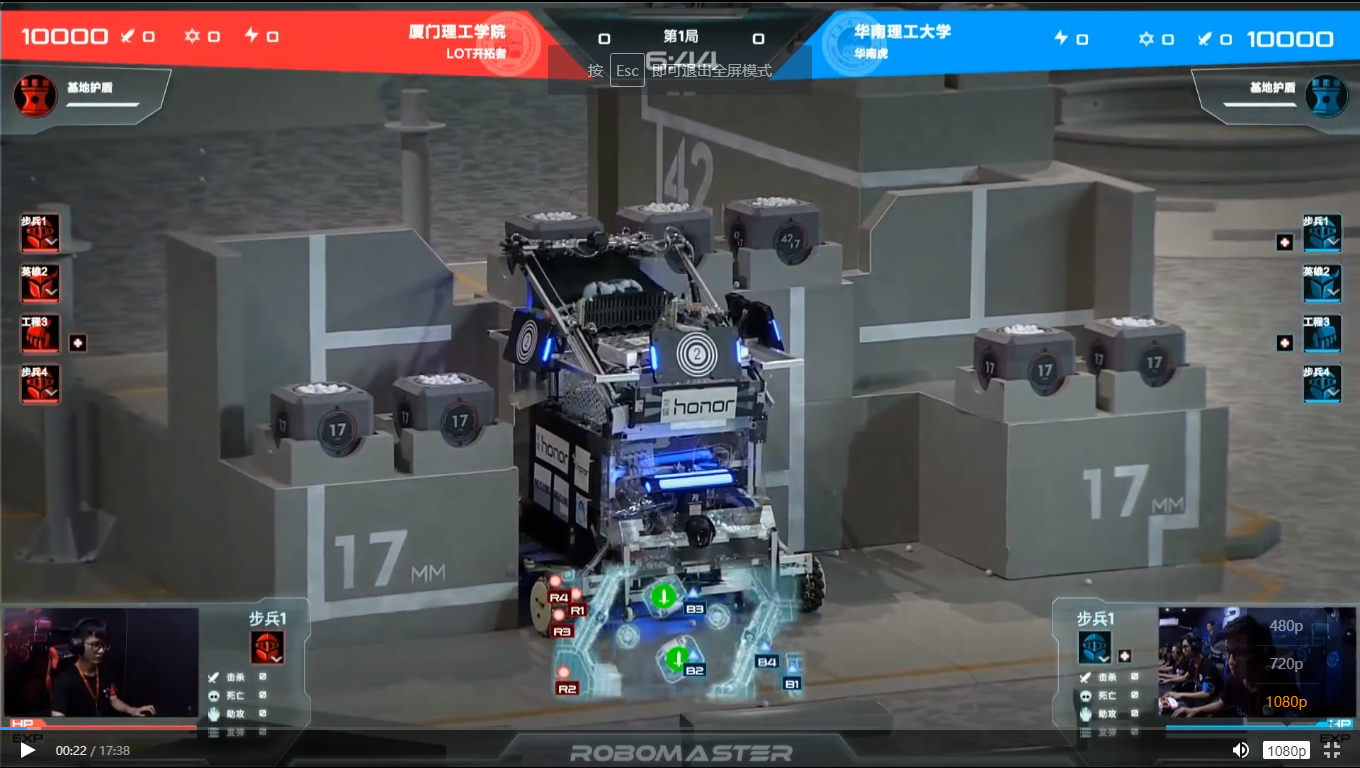box: (262, 378, 375, 461), (395, 368, 497, 456), (1079, 314, 1189, 395), (711, 192, 833, 265), (971, 321, 1078, 399), (615, 198, 719, 261), (495, 211, 606, 259)
